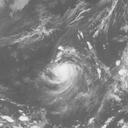cyclone: (41, 61, 80, 93)
